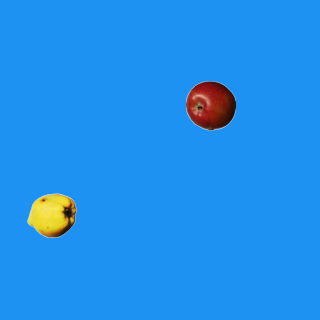Apple Braeburn: (185, 80, 235, 130)
Quince: (26, 190, 76, 240)
